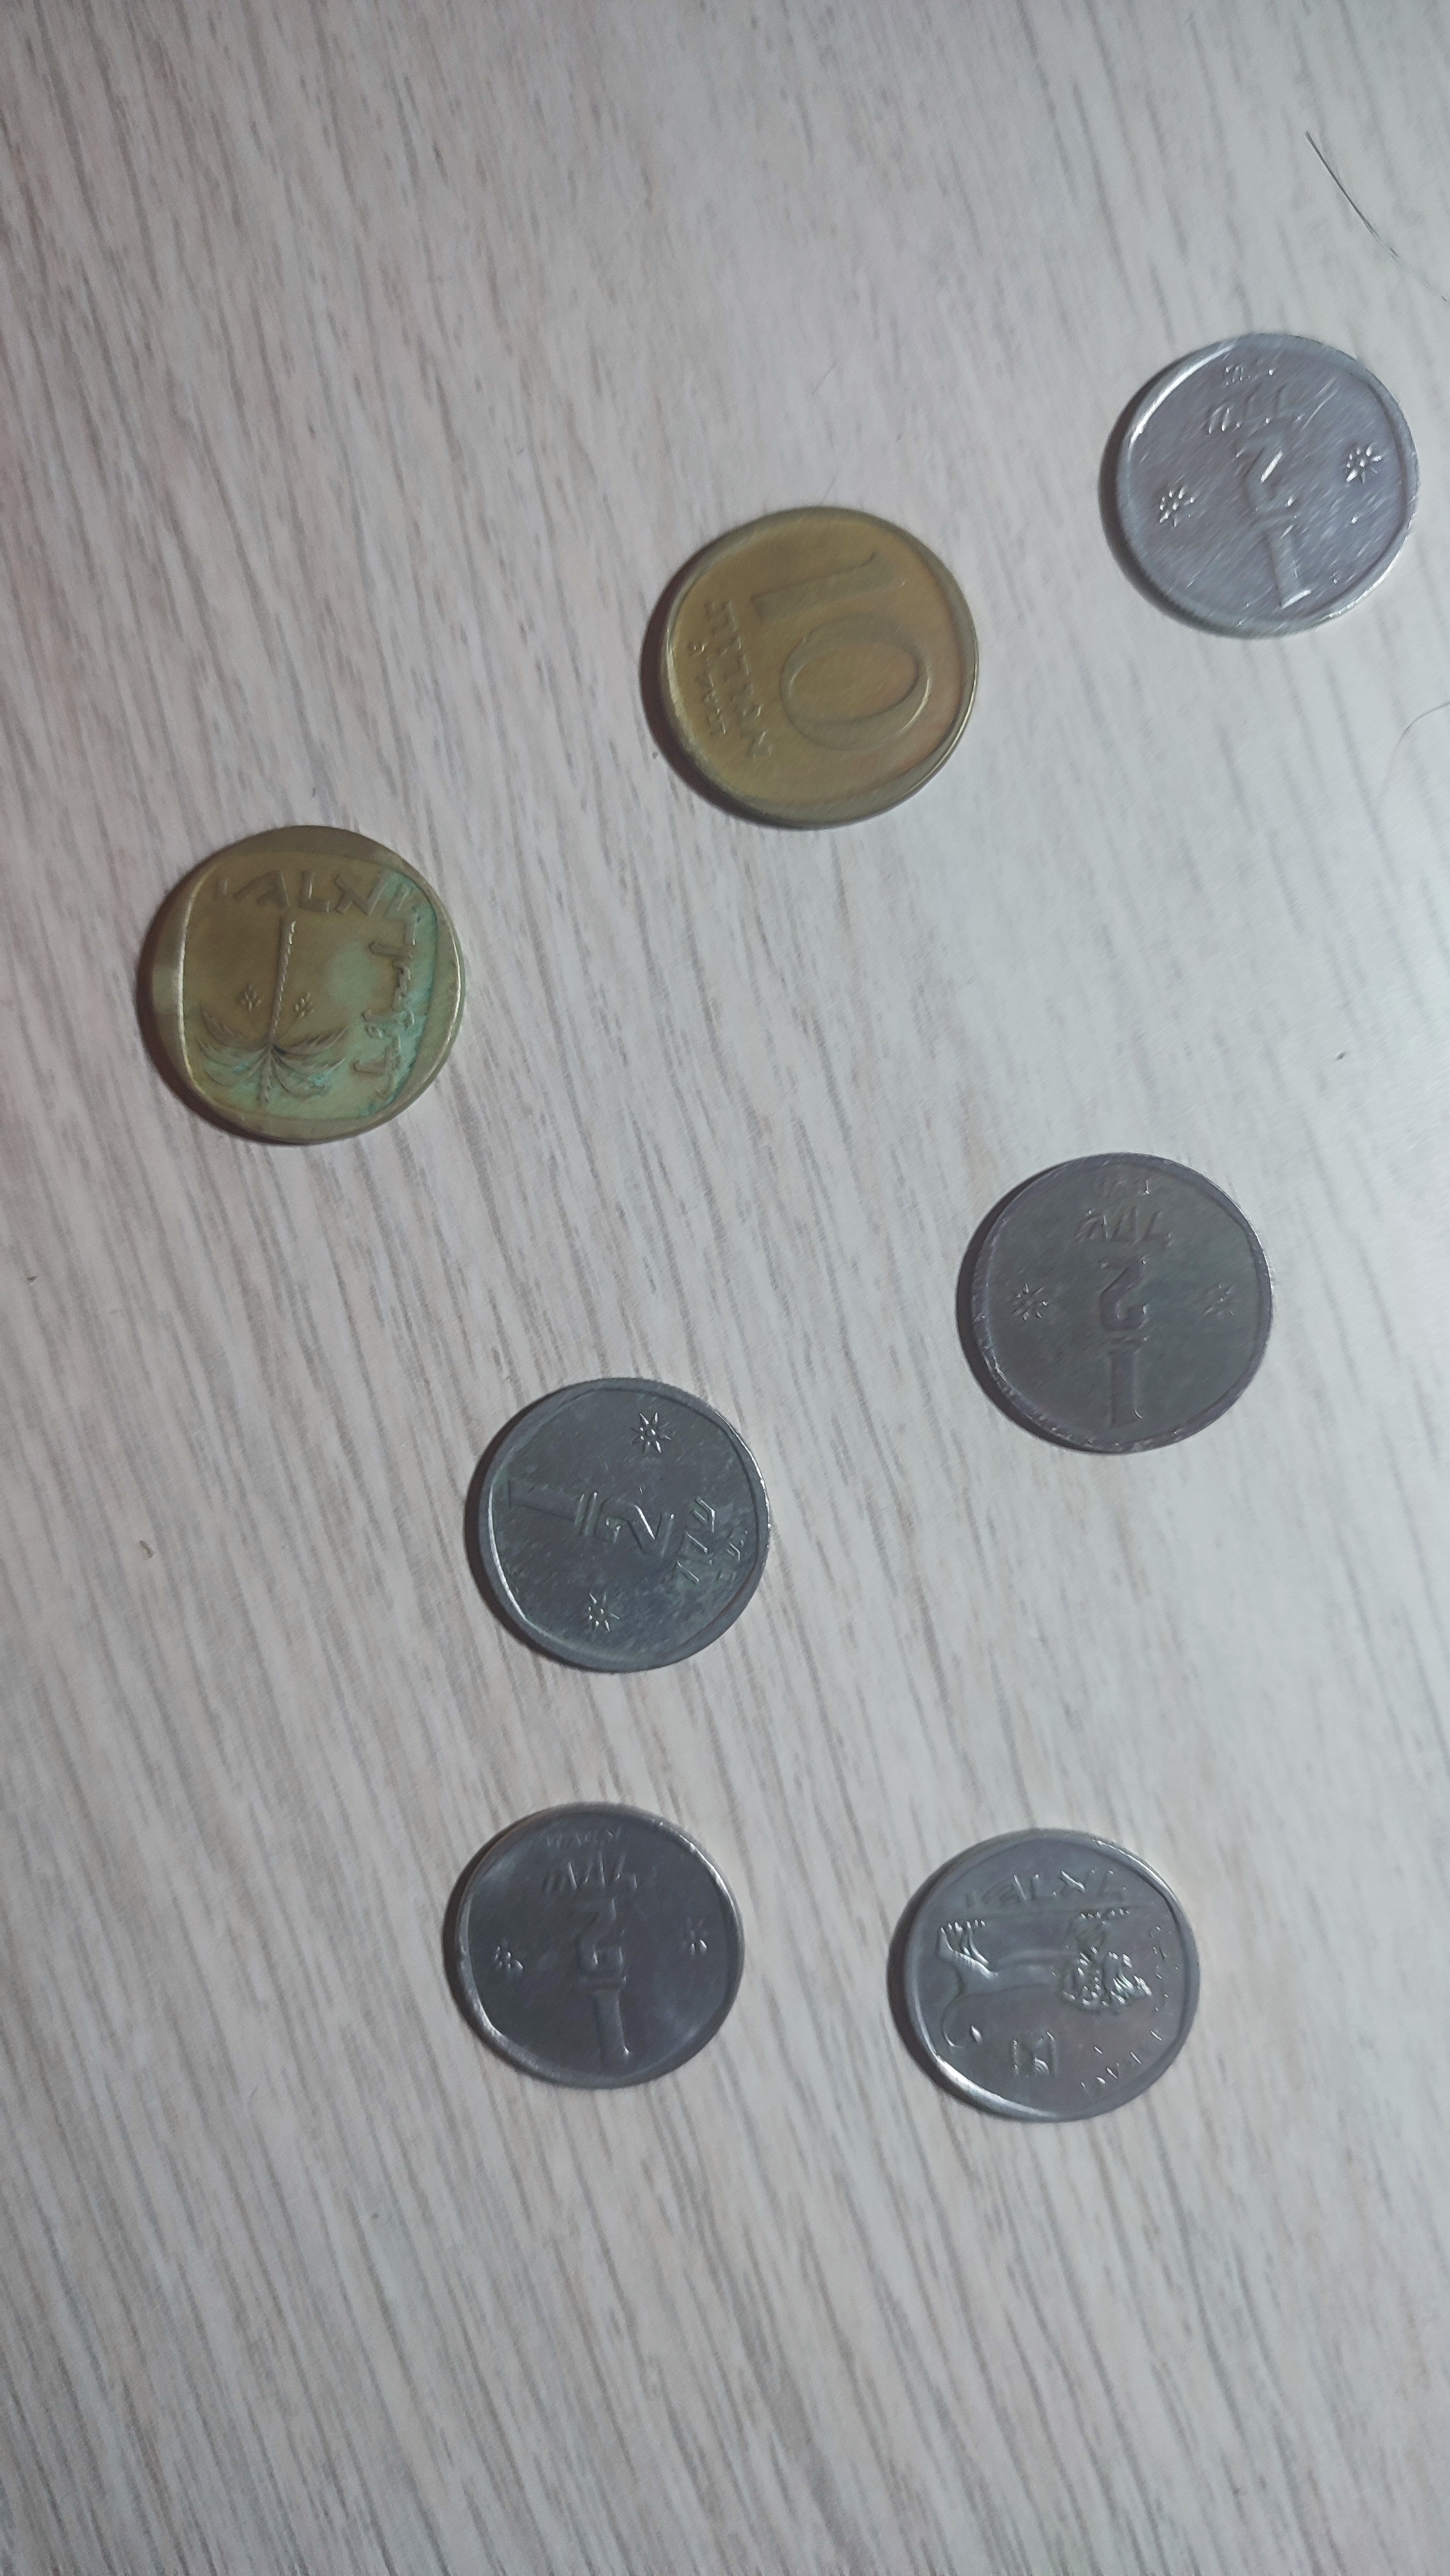1/2 old sheqel: (957, 1148, 1278, 1461), (1109, 329, 1425, 646), (895, 1824, 1204, 2134), (435, 1798, 753, 2098), (469, 1373, 776, 1677)
10 old agora brown: (635, 497, 983, 837), (133, 821, 470, 1152)
